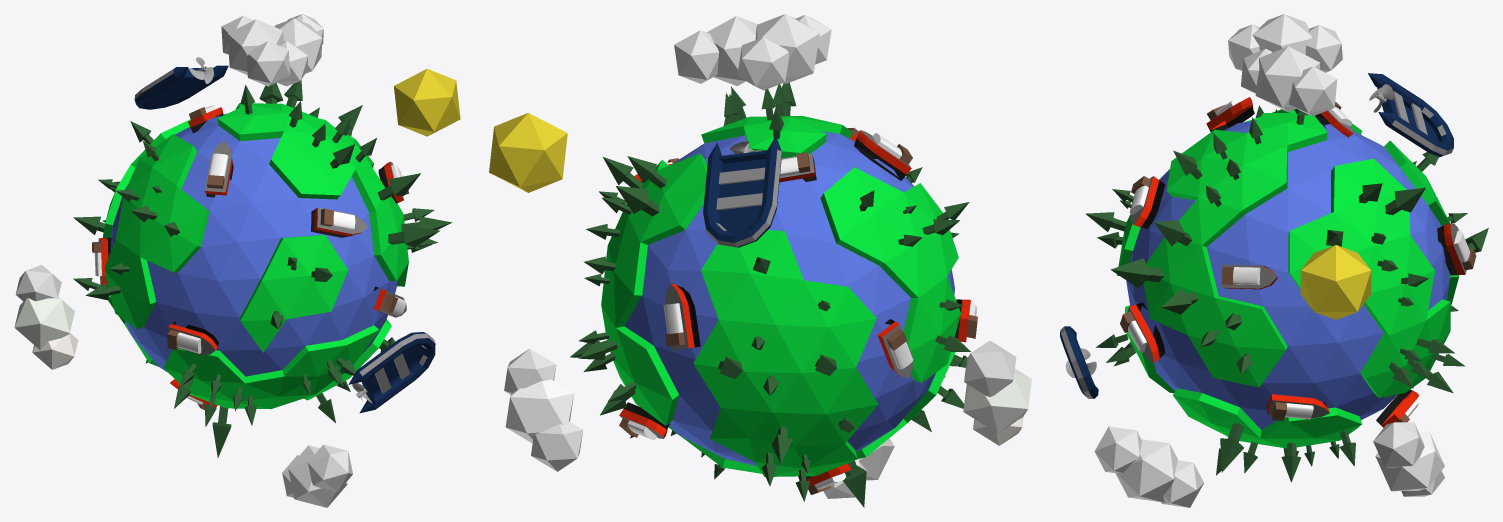
Rendered from seineConflansPlanet.glb.
3 renders of one model, left to right at view 1: azimuth 30°, elevation 25°; view 2: azimuth 150°, elevation 25°; view 3: azimuth 270°, elevation 25°, orthographic. The views are drawn at different scales.
Parts seen in each view (by area): view 1: Icosphere, Icosphere.001, Cube.001, Icosphere.034, Cube, Icosphere.014, Icosphere.002, Icosphere.012, Icosphere.005, Icosphere.010, Cube.007, Icosphere.026 (+11 smaller); view 2: Icosphere, Icosphere.001, Cube, Icosphere.034, Icosphere.018, Icosphere.014, Icosphere.002, Icosphere.016, Icosphere.004, Icosphere.026, Cube.014, Icosphere.020 (+13 smaller); view 3: Icosphere, Icosphere.001, Icosphere.034, Cube, Icosphere.010, Icosphere.026, Icosphere.018, Icosphere.021, Icosphere.028, Icosphere.012, Icosphere.002, Cube.001 (+18 smaller).
Part boxes in pixels (x1,y1,x2,y2): Icosphere: [102, 103, 408, 409]; Icosphere.001: [111, 113, 397, 376]; Cube.001: [348, 332, 435, 413]; Icosphere.034: [394, 68, 460, 136]; Cube: [134, 57, 228, 109]; Icosphere.014: [14, 297, 74, 350]; Icosphere.002: [227, 19, 283, 74]; Icosphere.012: [308, 444, 352, 492]; Icosphere.005: [246, 41, 290, 86]; Icosphere.010: [288, 445, 347, 507]; Cube.007: [311, 207, 367, 237]; Icosphere.026: [274, 18, 322, 73]; Icosphere: [601, 116, 960, 476]; Icosphere.001: [624, 131, 954, 465]; Cube: [703, 136, 781, 247]; Icosphere.034: [489, 113, 567, 192]; Icosphere.018: [505, 379, 574, 443]; Icosphere.014: [963, 369, 1031, 433]; Icosphere.002: [755, 14, 819, 83]; Icosphere.016: [964, 340, 1016, 396]; Icosphere.004: [737, 37, 789, 90]; Icosphere.026: [706, 16, 757, 85]; Cube.014: [663, 283, 700, 350]; Icosphere.020: [531, 421, 582, 471]; Icosphere: [1117, 109, 1459, 448]; Icosphere.001: [1126, 120, 1450, 429]; Icosphere.034: [1300, 245, 1371, 319]; Cube: [1368, 73, 1453, 157]; Icosphere.010: [1115, 439, 1177, 502]; Icosphere.026: [1255, 46, 1320, 111]; Icosphere.018: [1375, 431, 1444, 491]; Icosphere.021: [1373, 422, 1424, 467]; Icosphere.028: [1289, 66, 1337, 116]; Icosphere.012: [1094, 426, 1142, 472]; Icosphere.002: [1252, 14, 1311, 54]; Cube.001: [1060, 326, 1098, 398].
Bounding box in the file's own units: 3.58 × 3.4 × 2.69.
